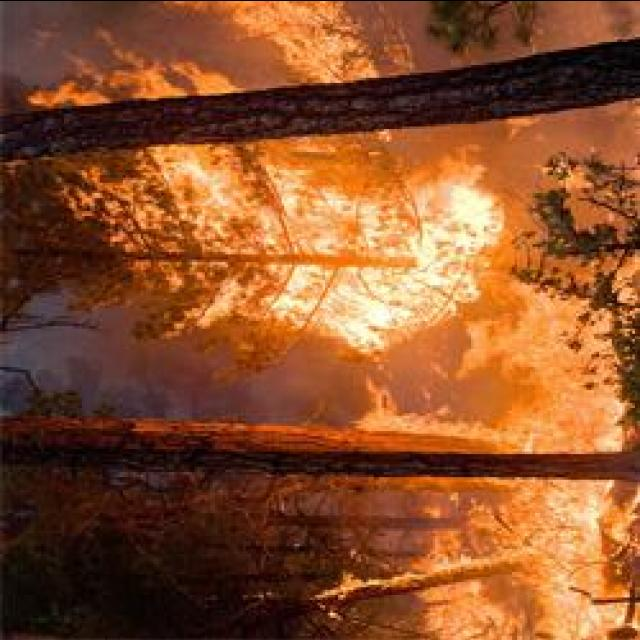fire: (522, 532, 604, 636), (520, 481, 610, 546), (541, 384, 623, 452), (341, 276, 413, 336), (426, 592, 512, 640), (425, 193, 498, 247), (492, 321, 562, 372), (250, 2, 336, 43), (362, 408, 486, 436), (414, 256, 476, 307)
